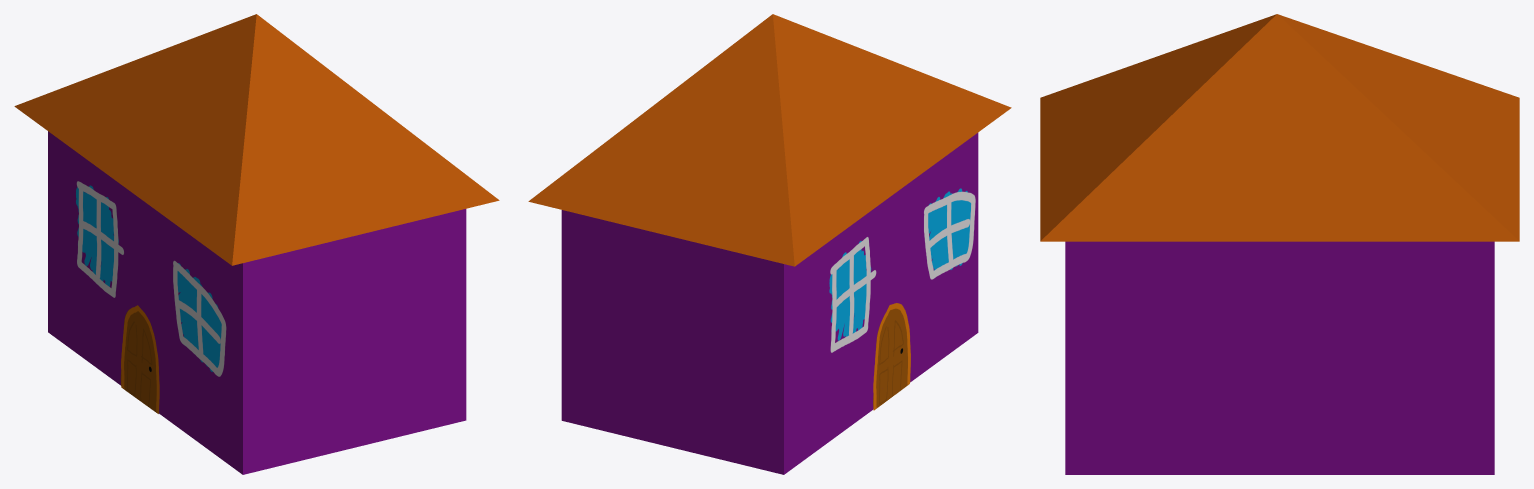
File: purple_house.glb
The picture shows the model from 3 angles, left to right: view 1: azimuth 30°, elevation 25°; view 2: azimuth 150°, elevation 25°; view 3: azimuth 270°, elevation 25°; orthographic projection. The views are drawn at different scales.
Visible parts, largest first — view 1: RedHouse.008, Roof.008, Decorations.008; view 2: RedHouse.008, Roof.008, Decorations.008; view 3: RedHouse.008, Roof.008.
Boxes of the visible parts, x1,y1,x2,y2 form: RedHouse.008: (48,131,466,474); Roof.008: (14,14,499,265); Decorations.008: (76,181,226,413); RedHouse.008: (561,132,978,474); Roof.008: (528,14,1011,266); Decorations.008: (829,188,975,410); RedHouse.008: (1065,241,1494,474); Roof.008: (1040,14,1519,241).
Bounding box in the file's own units: 12.2 × 15.83 × 17.2.
Materials: 3 (3 with a texture image).
